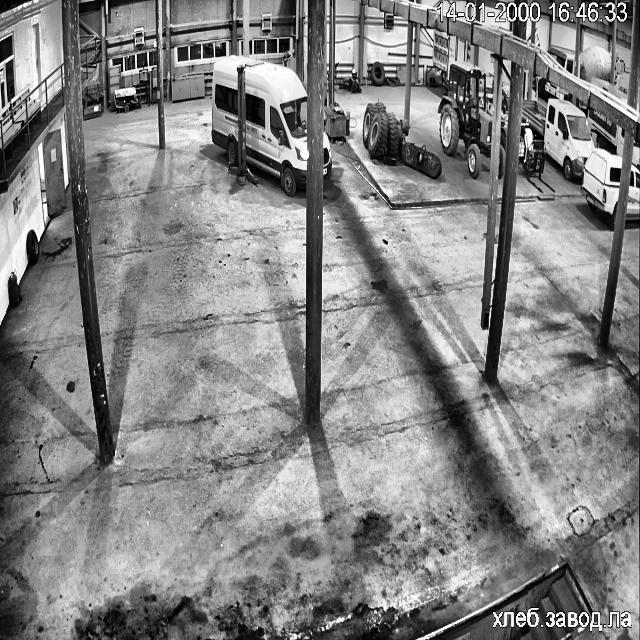car: (212, 55, 308, 196), (323, 132, 332, 178)
car lift: (228, 64, 257, 185)
fire extinguisher: (8, 272, 20, 306)
tractor: (438, 61, 492, 178), (498, 140, 504, 177), (499, 108, 502, 117), (492, 108, 496, 111), (500, 134, 502, 137), (500, 105, 500, 107)
truck: (522, 100, 593, 178), (580, 148, 620, 228), (588, 108, 624, 155), (576, 45, 610, 83), (592, 80, 626, 103), (548, 44, 574, 73), (626, 166, 640, 218), (534, 77, 567, 98), (614, 55, 624, 84), (632, 142, 640, 164)
